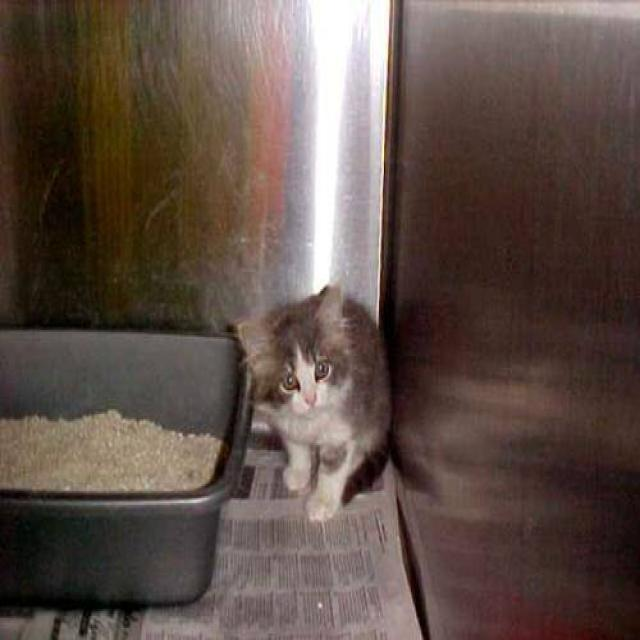cat: (228, 279, 393, 522)
